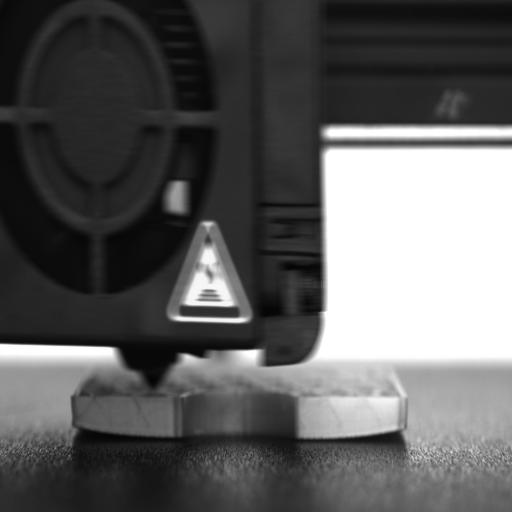warp: (297, 392, 410, 440), (69, 388, 177, 438)
